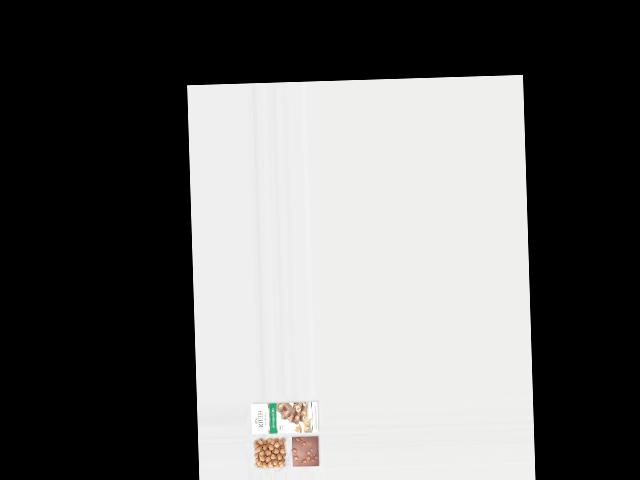chocolate: (291, 434, 321, 470)
